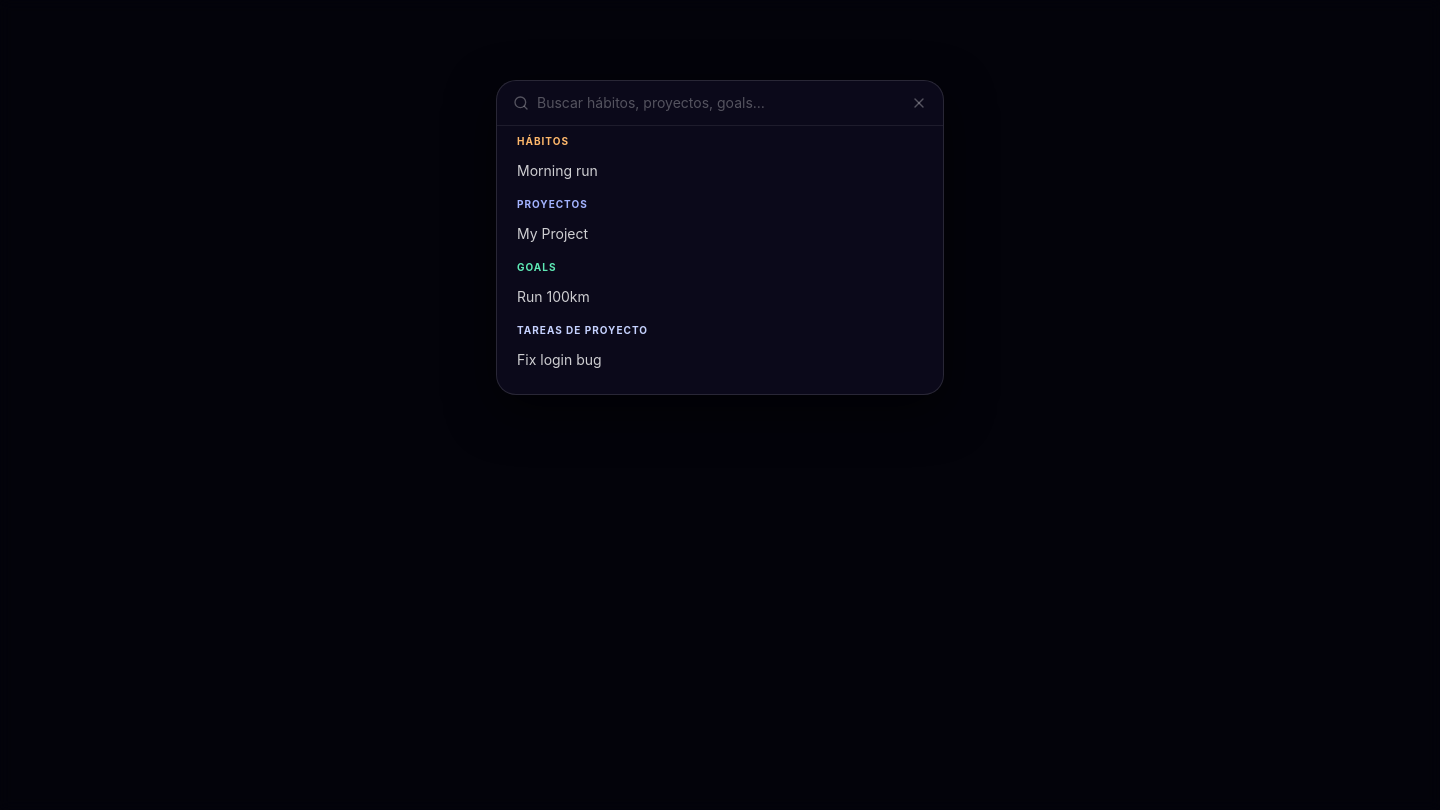
Test: LinkPicker › filters results on input
This screenshot has width=1440, height=810.
Type "run" into the field with placeholder "Buscar hábitos, proyectos, goals…" at (720, 103), box [537,93,903,113]
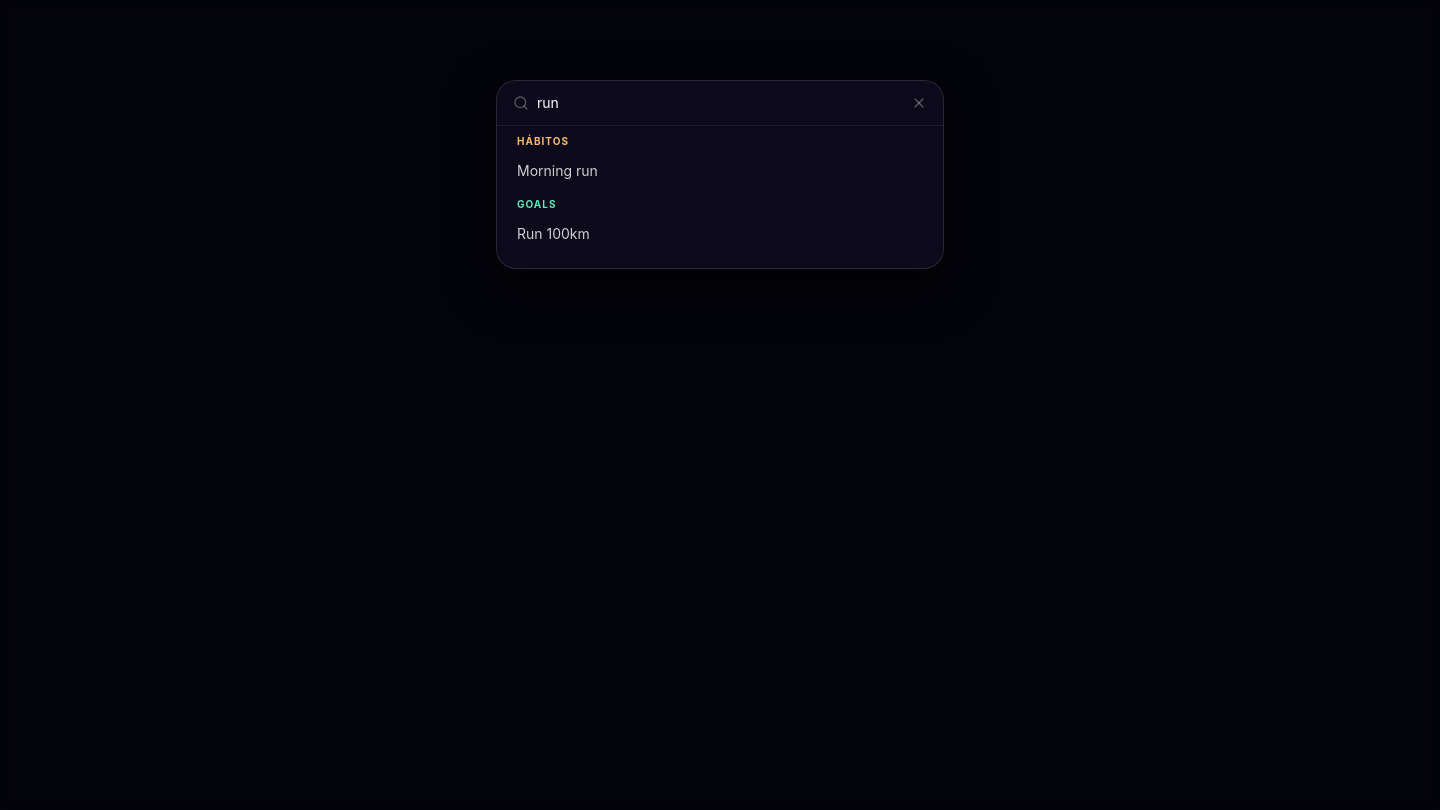
Expected: the button "Morning run" is shown, [505,153,935,189]
Result: the button "My Project" is gone
